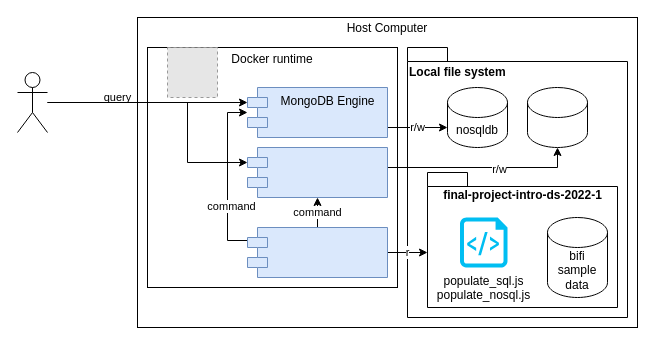
The diagram is 655 pixels wide and 345 high, and some of its shapes have lost their labels. Grey dashed boxes stand in for pictures. Each missing label, with the centre of its shape:
"PosgreSQL Engine" goes at (x=317, y=172).
"Runtime: NodeJS" goes at (x=317, y=252).
"sqldb" goes at (x=557, y=117).
"User" goes at (x=32, y=102).
